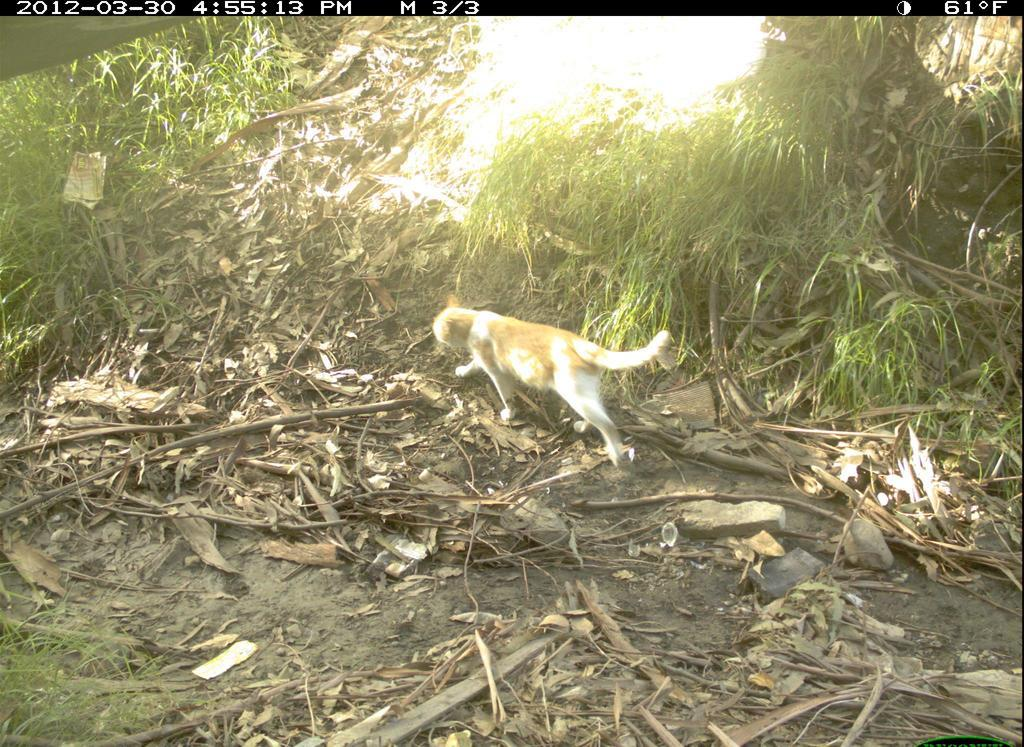cat: (429, 289, 678, 473)
